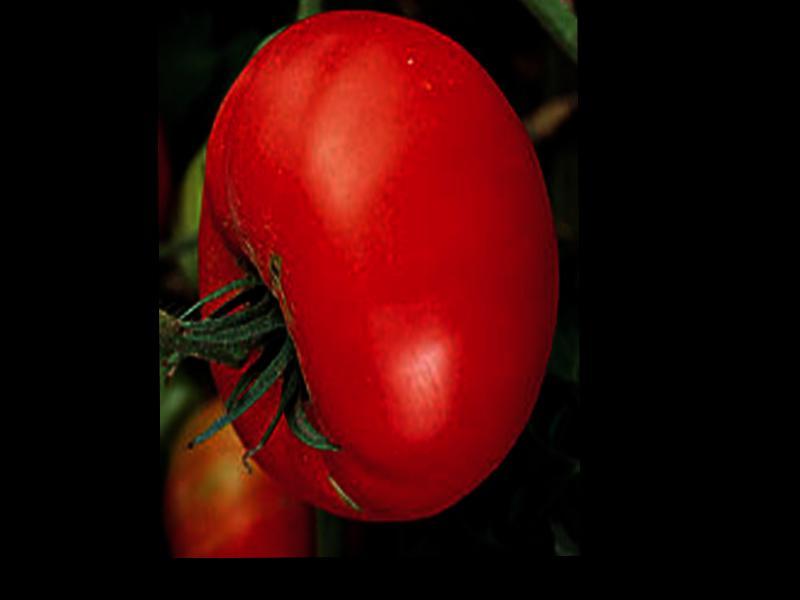Tomato: (198, 11, 561, 519)
